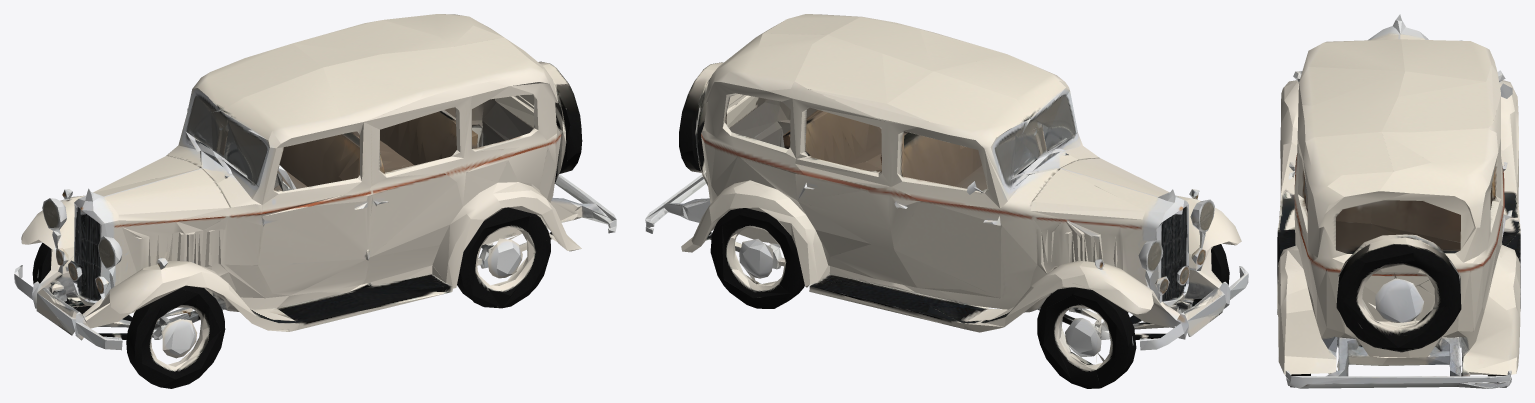
File: car.glb
The picture shows the model from 3 angles, left to right: view 1: azimuth 30°, elevation 25°; view 2: azimuth 150°, elevation 25°; view 3: azimuth 270°, elevation 25°; orthographic projection. The views are drawn at different scales.
Size of the model in its own units: 1.9 by 0.8272 by 0.7335.
1 material, 1 textured.
